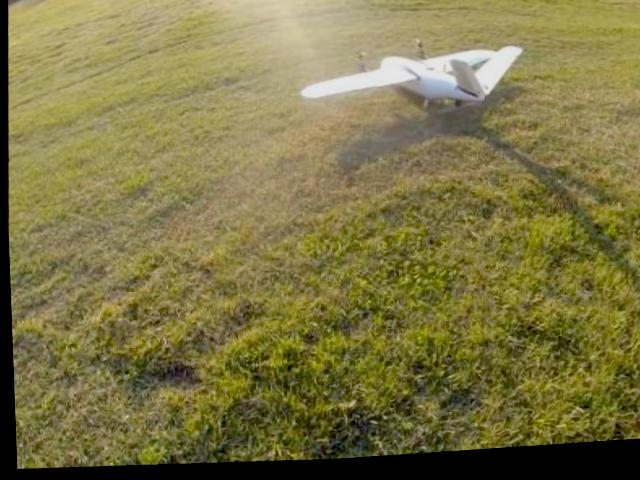uav: (288, 24, 531, 144)
